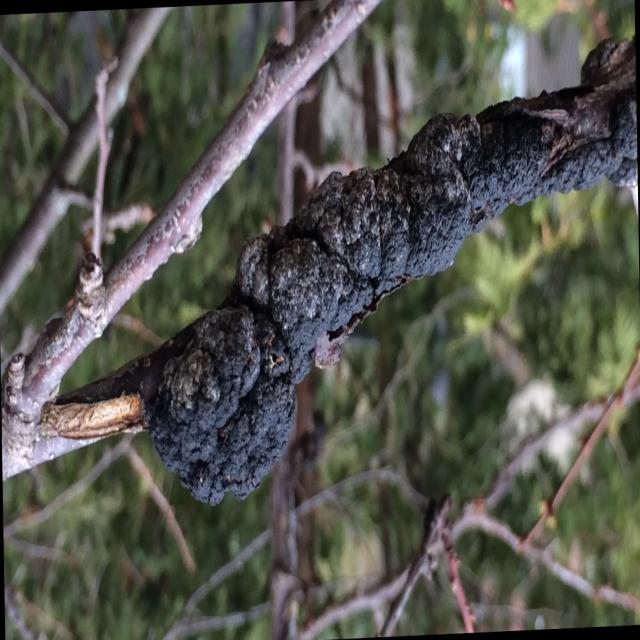Black_knot: (41, 34, 638, 508), (146, 304, 296, 506)
